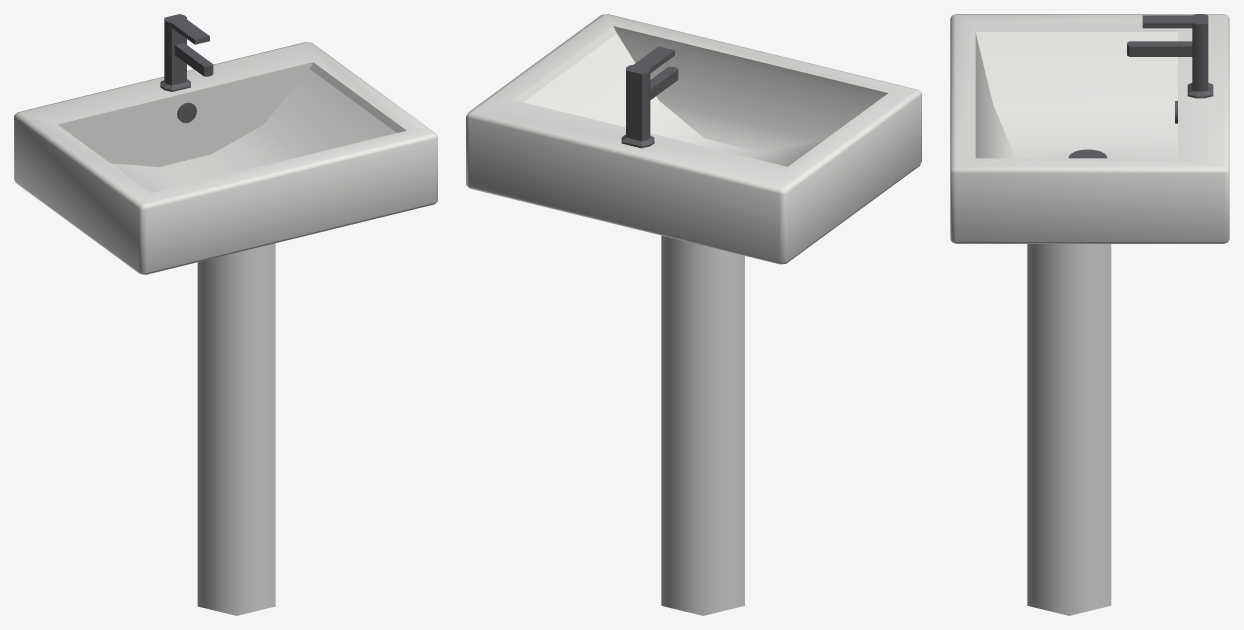
Rendered from basin.FBX.
3 renders of one model, left to right at view 1: azimuth 30°, elevation 25°; view 2: azimuth 150°, elevation 25°; view 3: azimuth 270°, elevation 25°, orthographic. The views are drawn at different scales.
Visible parts, largest first — view 1: basin; view 2: basin; view 3: basin.
Part boxes in pixels (box(x1,y1,x2,y2)): basin: box(14, 14, 437, 615); basin: box(466, 14, 921, 615); basin: box(950, 14, 1229, 615).
Size of the model in its own units: 23 by 17.31 by 39.36.
